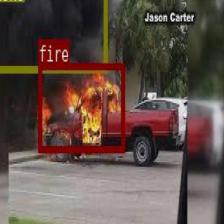fire: (38, 61, 124, 150)
smoke: (0, 0, 106, 71)
